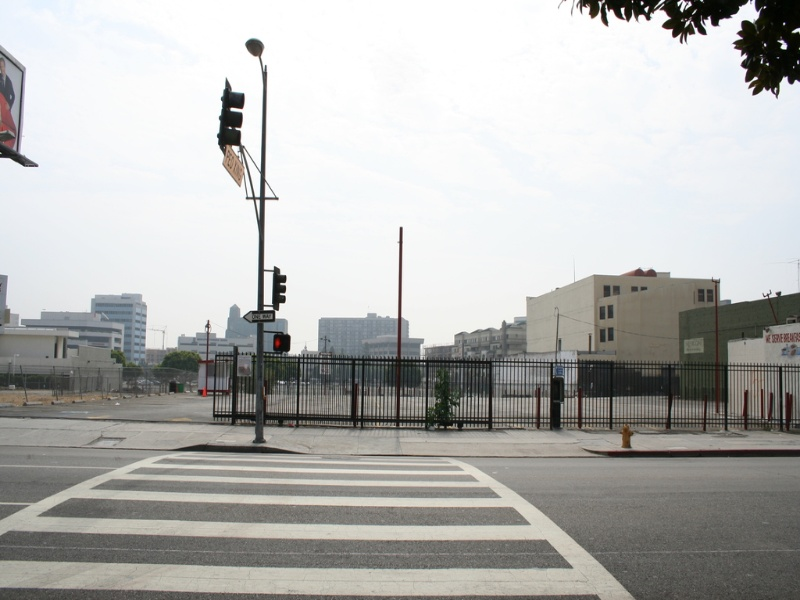red_light: (271, 329, 302, 358)
